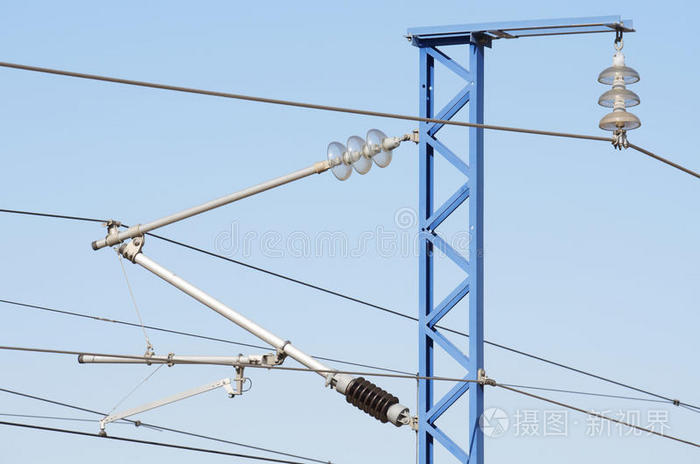insulator: (324, 128, 396, 182), (596, 64, 644, 133), (347, 378, 399, 423)
